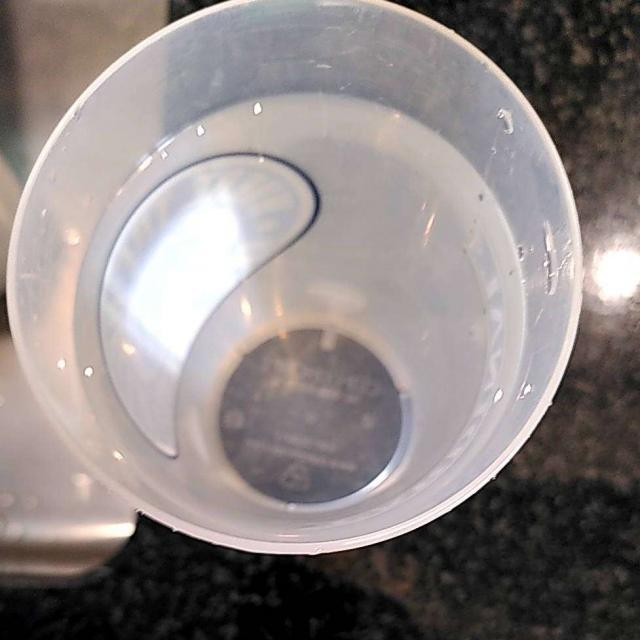water: (94, 98, 531, 523)
